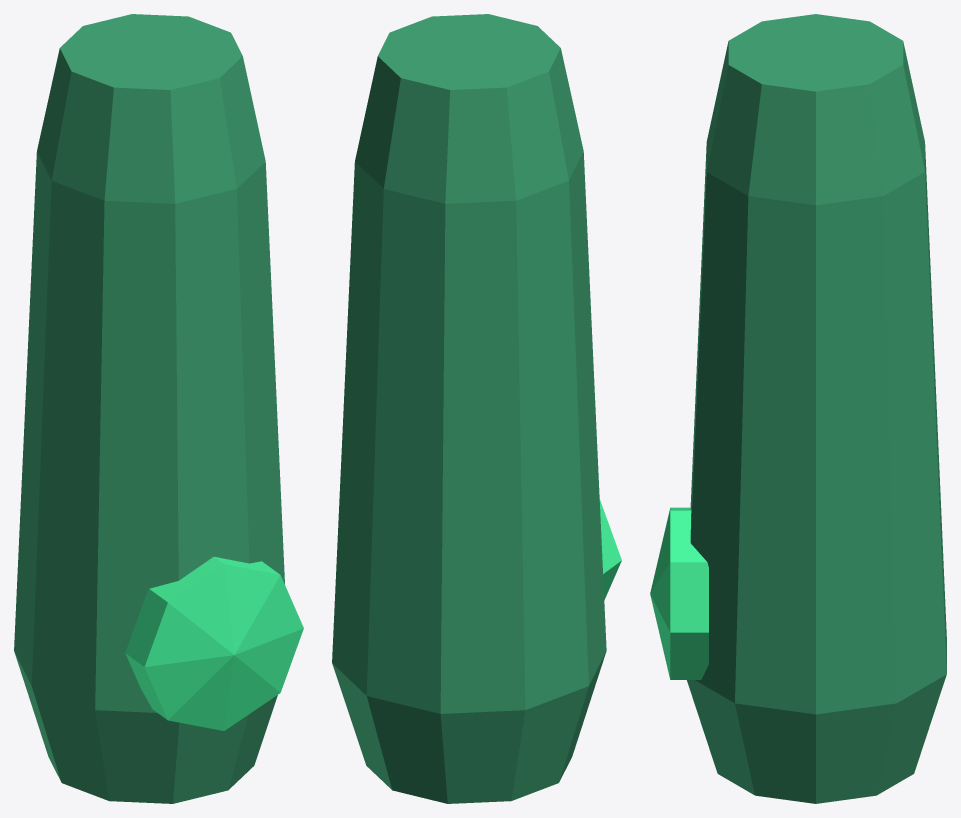
The model's file is jade_spine_handle.obj.
The picture shows the model from 3 angles, left to right: view 1: azimuth 30°, elevation 25°; view 2: azimuth 150°, elevation 25°; view 3: azimuth 270°, elevation 25°; orthographic projection.
Parts seen in each view (by area): view 1: jade_handle, handle_jewel; view 2: jade_handle, handle_jewel; view 3: jade_handle, handle_jewel.
Boxes of the visible parts, left/top/right/bottom form: jade_handle: left=14, top=14, right=284, bottom=803; handle_jewel: left=125, top=556, right=303, bottom=730; jade_handle: left=332, top=14, right=606, bottom=803; handle_jewel: left=599, top=499, right=621, bottom=599; jade_handle: left=687, top=14, right=946, bottom=803; handle_jewel: left=650, top=507, right=708, bottom=679.
Size of the model in its own units: 0.24 by 0.68 by 0.2585.
